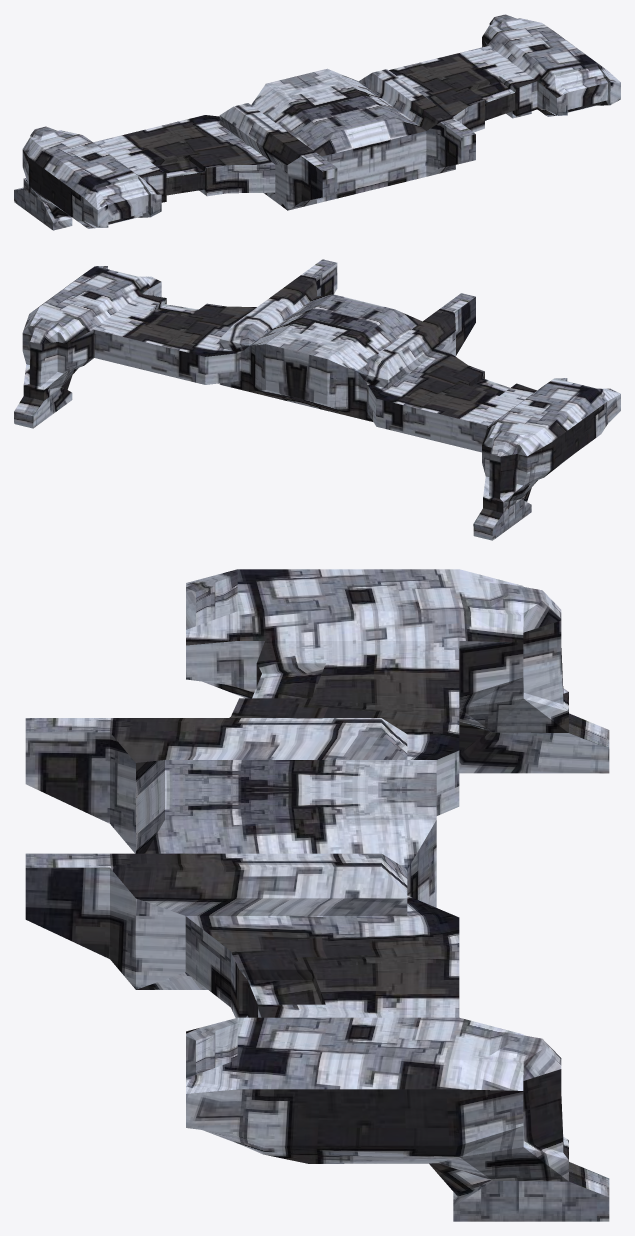
Rendered from enemy.obj.
The picture shows the model from 3 angles, top to bottom: view 1: azimuth 30°, elevation 25°; view 2: azimuth 150°, elevation 25°; view 3: azimuth 270°, elevation 25°; orthographic projection. The views are drawn at different scales.
Visible parts, largest first — view 1: PE-Wing_Cube.135; view 2: PE-Wing_Cube.135; view 3: PE-Wing_Cube.135.
Part boxes in pixels (x1,y1,x2,y2): PE-Wing_Cube.135: [14, 14, 620, 230]; PE-Wing_Cube.135: [14, 259, 620, 540]; PE-Wing_Cube.135: [25, 569, 609, 1221].
Size of the model in its own units: 8.9 by 1.61 by 4.3.
